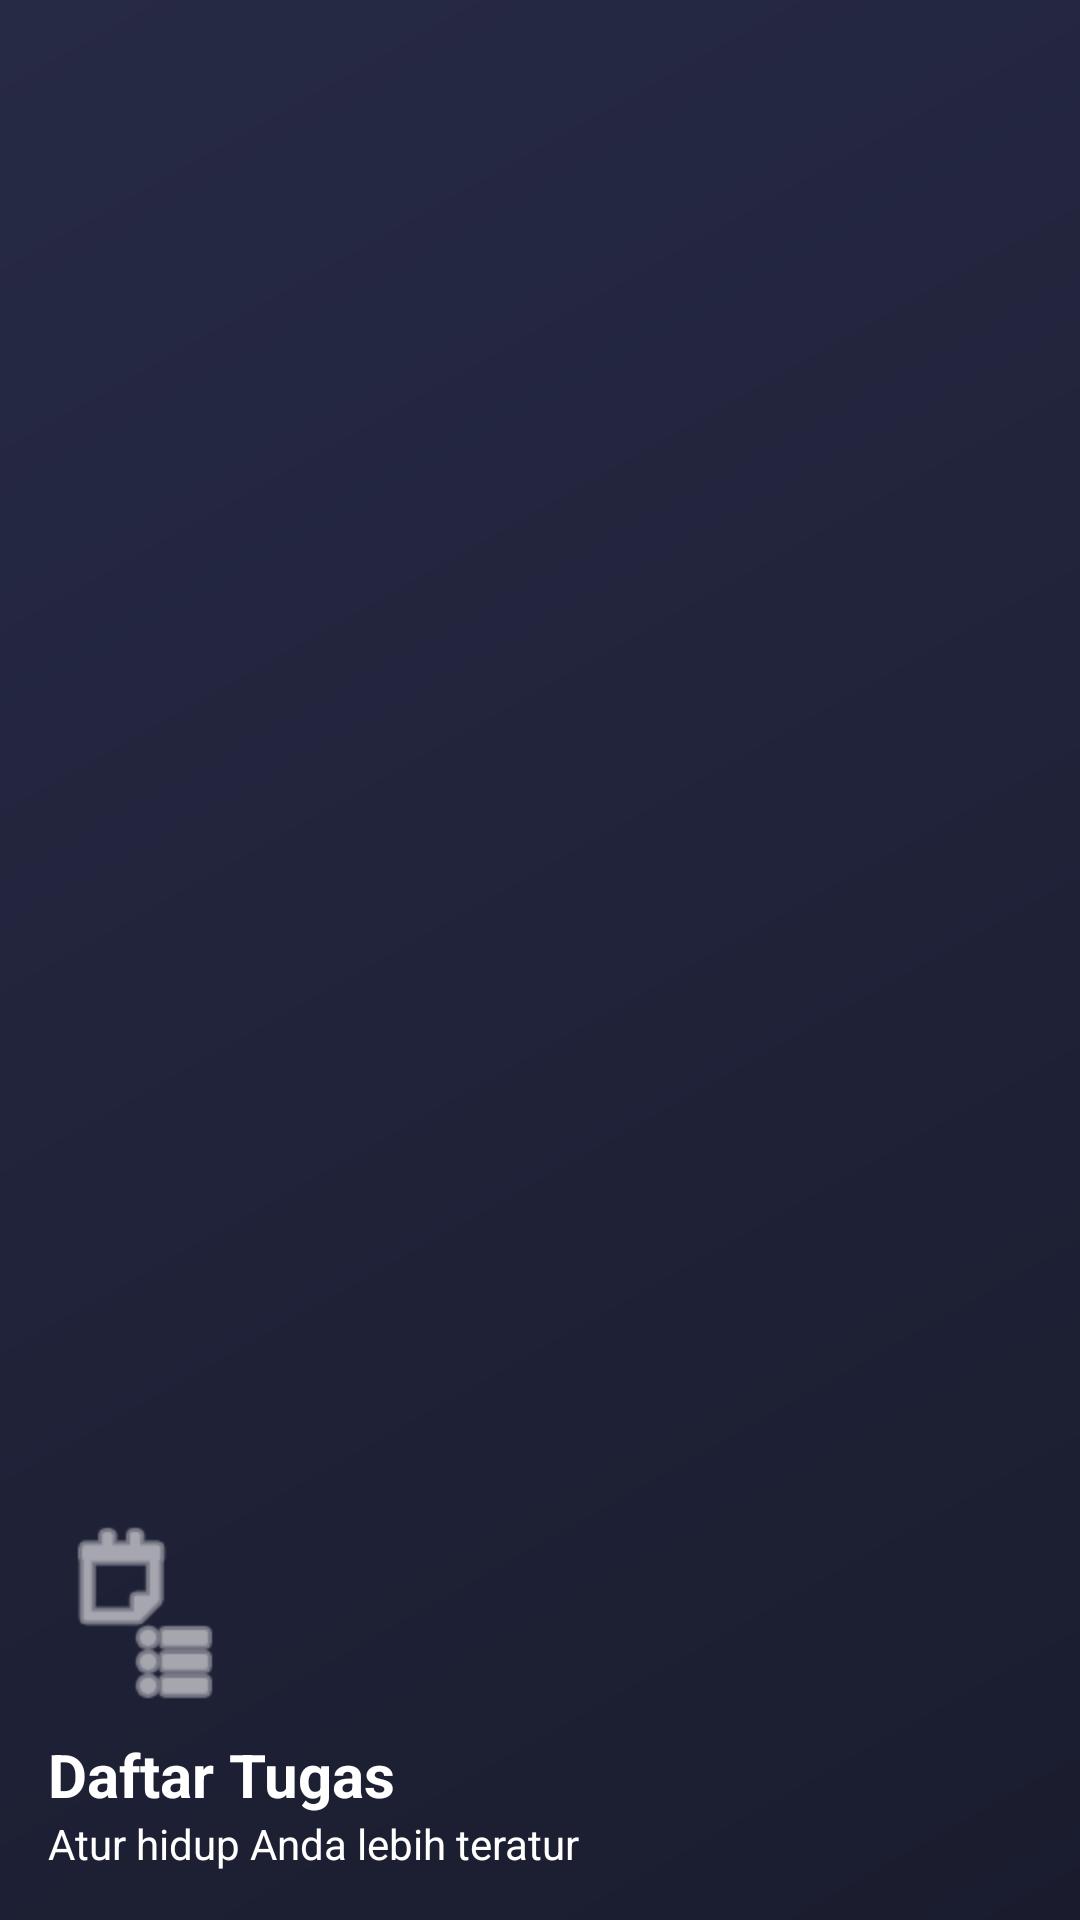

Named icons in this screenshot (1080w x 1920h) and their centers, [x,y]:
agenda: [145,1612]
